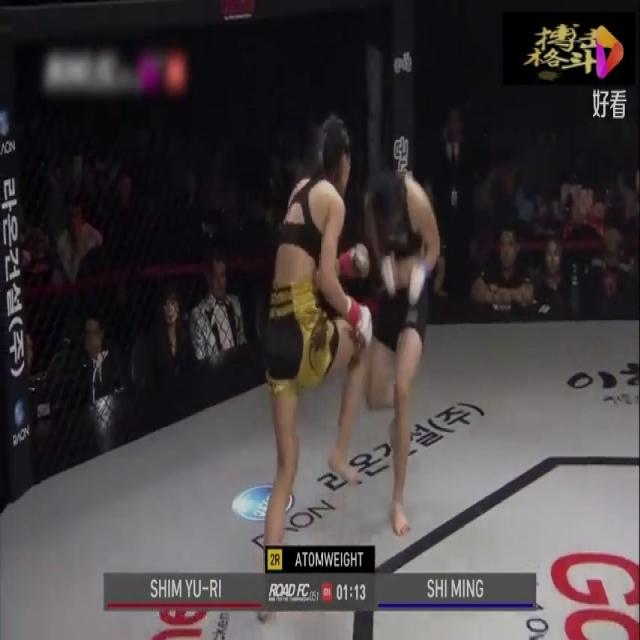fight: (245, 102, 450, 554)
